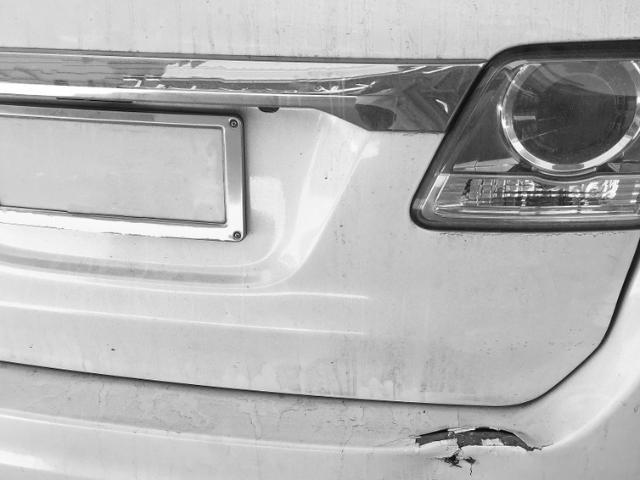Bumper: (351, 385, 557, 480)
